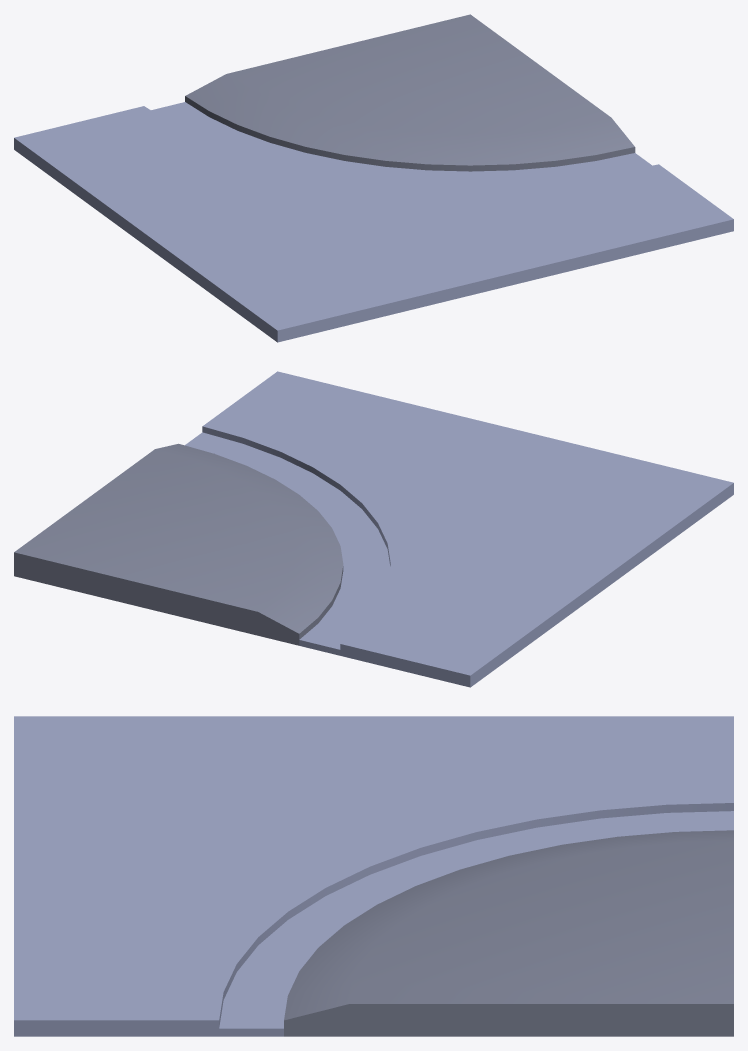
The model's file is road-corner.glb.
3 renders of one model, top to bottom at view 1: azimuth 30°, elevation 25°; view 2: azimuth 150°, elevation 25°; view 3: azimuth 270°, elevation 25°, orthographic. The views are drawn at different scales.
Parts seen in each view (by area): view 1: road-corner; view 2: road-corner; view 3: road-corner.
Boxes of the visible parts, box(x1,y1,x2,y2) form: road-corner: box(14, 14, 733, 342); road-corner: box(14, 371, 733, 687); road-corner: box(14, 716, 733, 1036).
Bounding box in the file's own units: 1 × 0.0501 × 1.
1 material, 1 textured.
